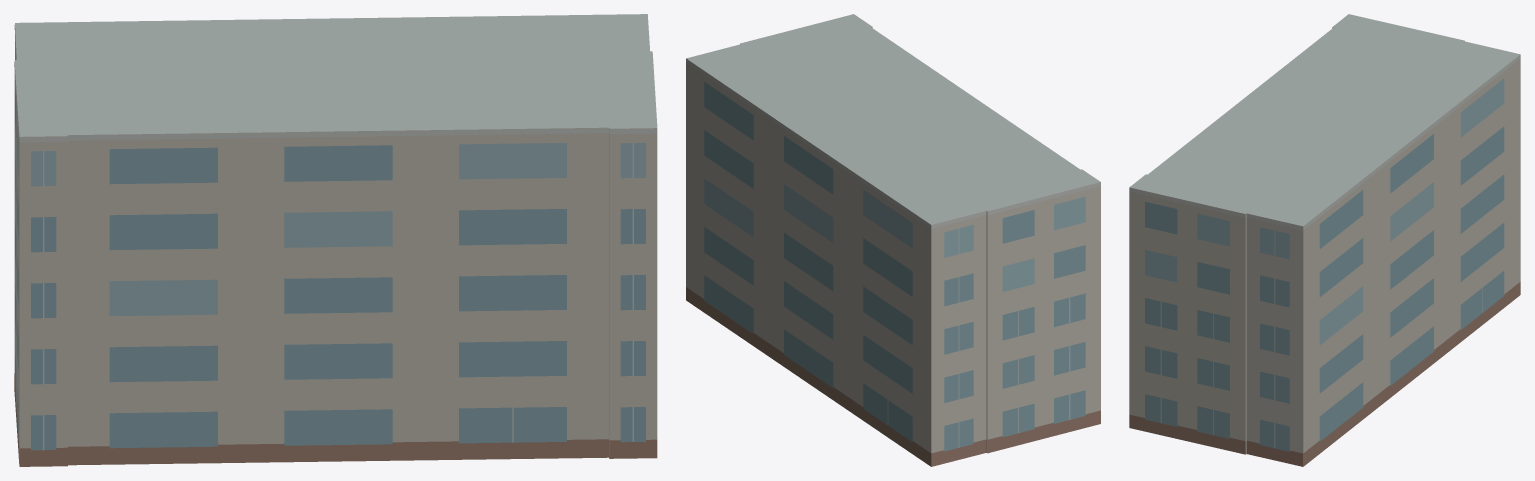
Rendered from survey-upis-32698422.glb.
3 renders of one model, left to right at view 1: azimuth 30°, elevation 25°; view 2: azimuth 150°, elevation 25°; view 3: azimuth 270°, elevation 25°, orthographic. The views are drawn at different scales.
Parts seen in each view (by area): view 1: survey-upis-32698422.tmp; view 2: survey-upis-32698422.tmp; view 3: survey-upis-32698422.tmp.
Boxes of the visible parts, left/top/right/bottom form: survey-upis-32698422.tmp: left=14, top=14, right=657, bottom=466; survey-upis-32698422.tmp: left=686, top=14, right=1100, bottom=466; survey-upis-32698422.tmp: left=1129, top=14, right=1520, bottom=466.
Size of the model in its own units: 27.37 by 14.45 by 21.31.
